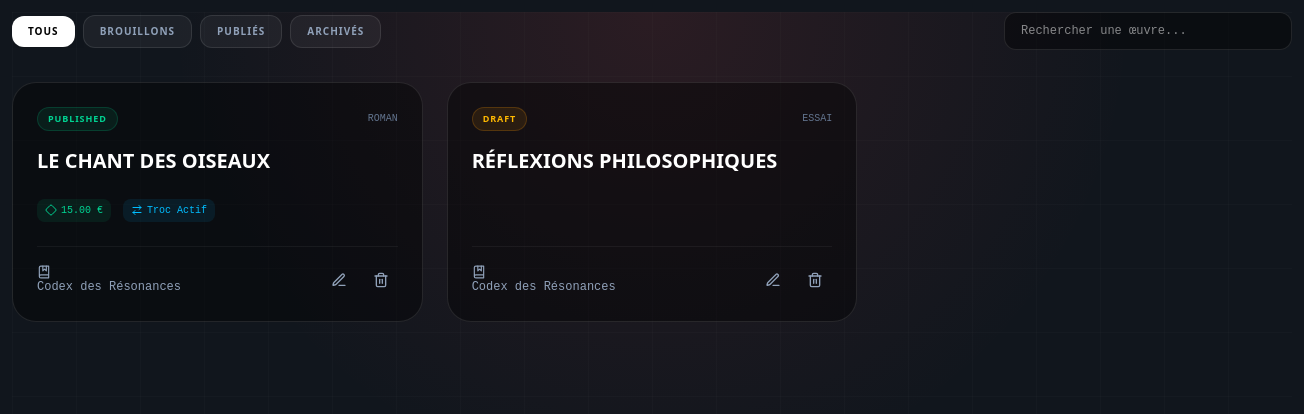
it: UI & Logique : AuthorStudioView (Studio de l'Auteur) › 🟢 doit filtrer les manuscrits par statut (DRAFT, PUBLISHED, etc.)
This screenshot has width=1304, height=414.
Expected: the heading "Le Chant des Oiseaux" is shown, [37,146,270,174]
# Clic sur le filtre "Brouillons"
Click the button "Brouillons".
click(137, 31)  # box [83,14,192,48]
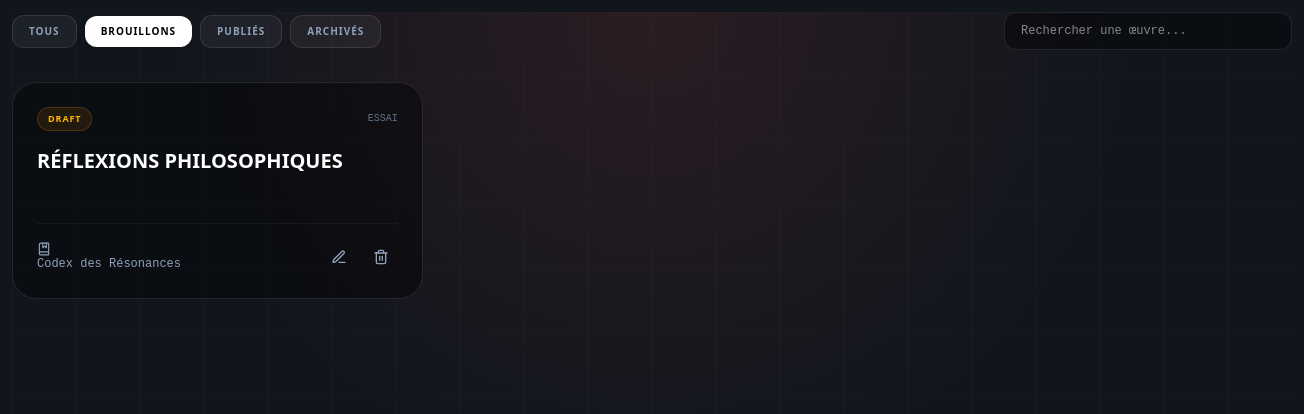
Expected: the heading "Réflexions Philosophiques" is shown, [37,146,343,174]
Expected: the heading "Le Chant des Oiseaux" is gone
# Clic sur "Tous" pour réinitialiser
Click the button "Tous".
click(44, 31)  # box [12,14,77,48]
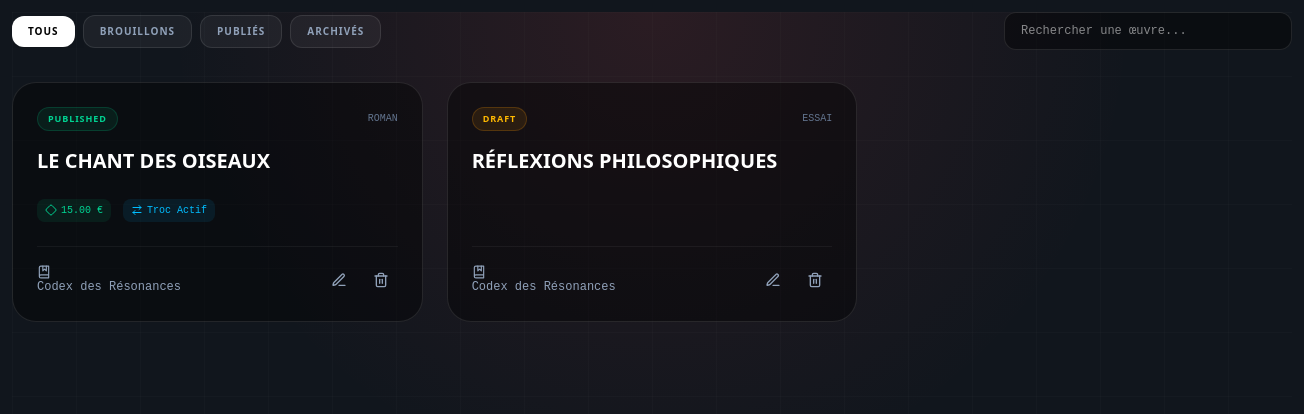
Expected: the heading "Le Chant des Oiseaux" is shown, [37,146,270,174]
